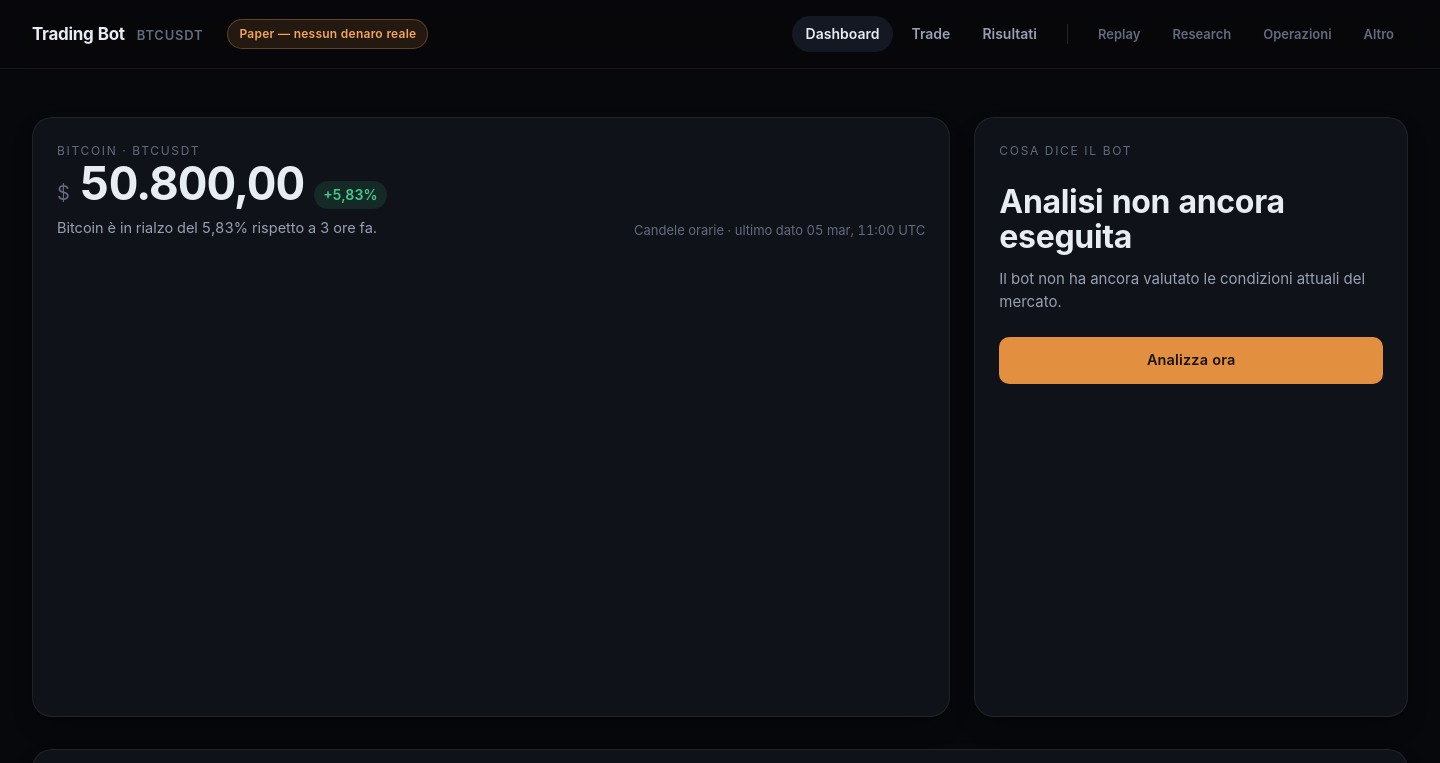
simulazione › espone il blocco causale e non invia una richiesta di creazione
The image size is (1440, 763).
Expected: the text "Analisi non ancora eseguita" is shown, 999,182 -> 1285,256
What coordinates should you click on to do the following:
click the button "Analizza ora"
I would click on:
 (1191, 360)
Its box is 999,337 -> 1383,384.
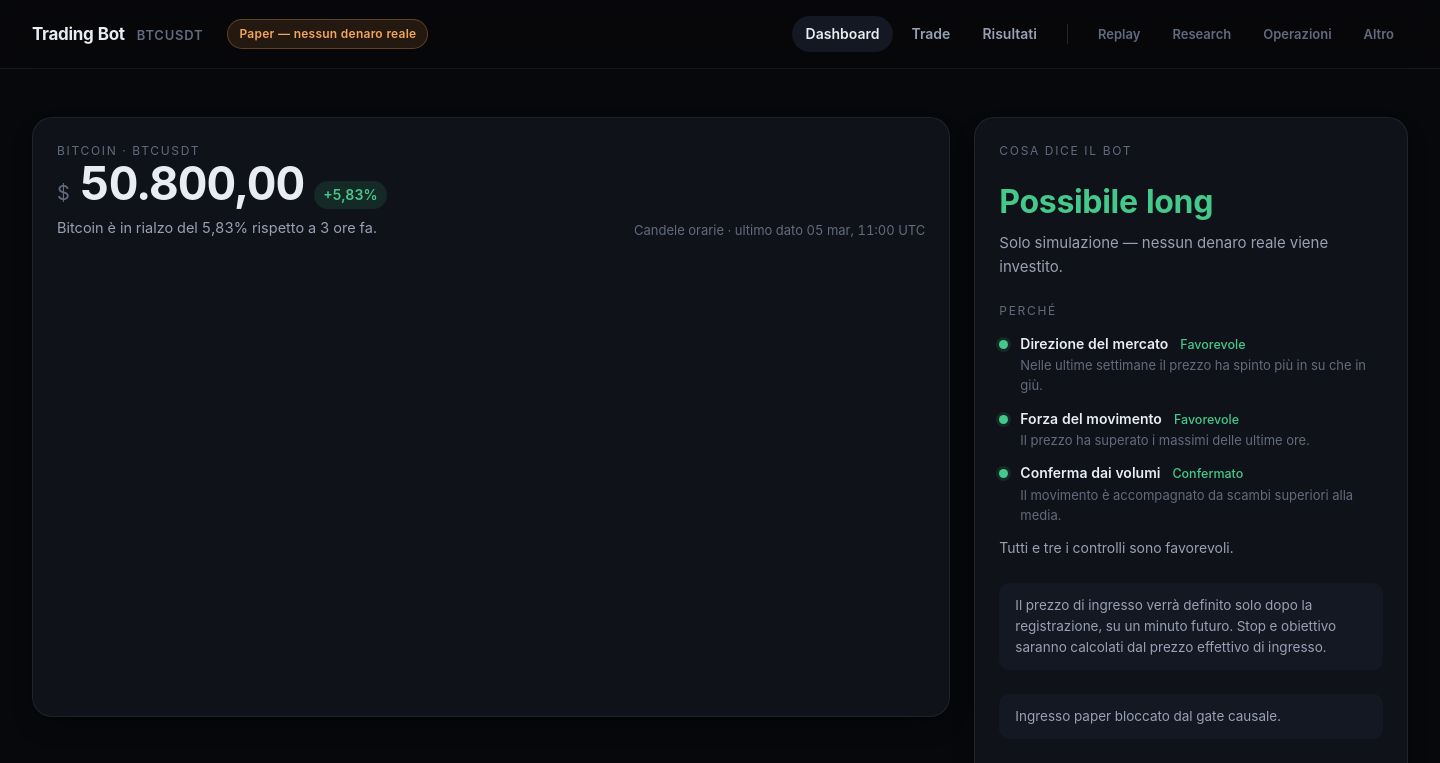
Expected: the text "Ingresso paper bloccato dal gate causale." is shown, 999,694 -> 1383,739
